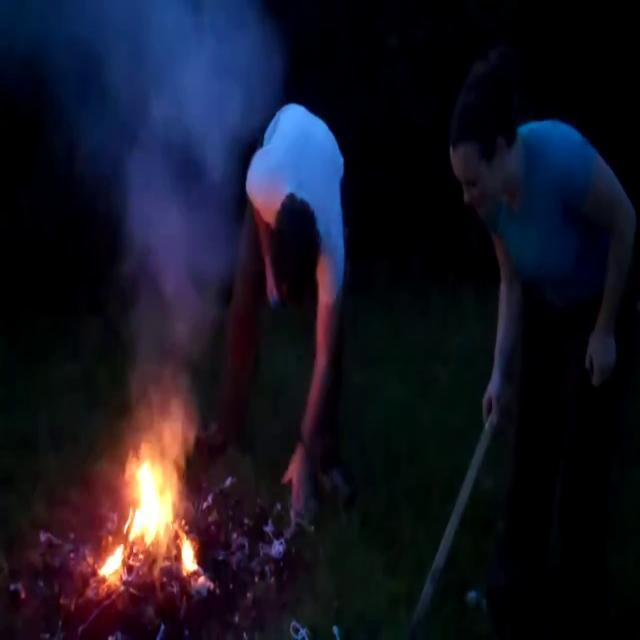Fire: (92, 436, 202, 588)
Smoke: (102, 1, 252, 402)
